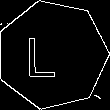L_N: (36, 29, 69, 80)
